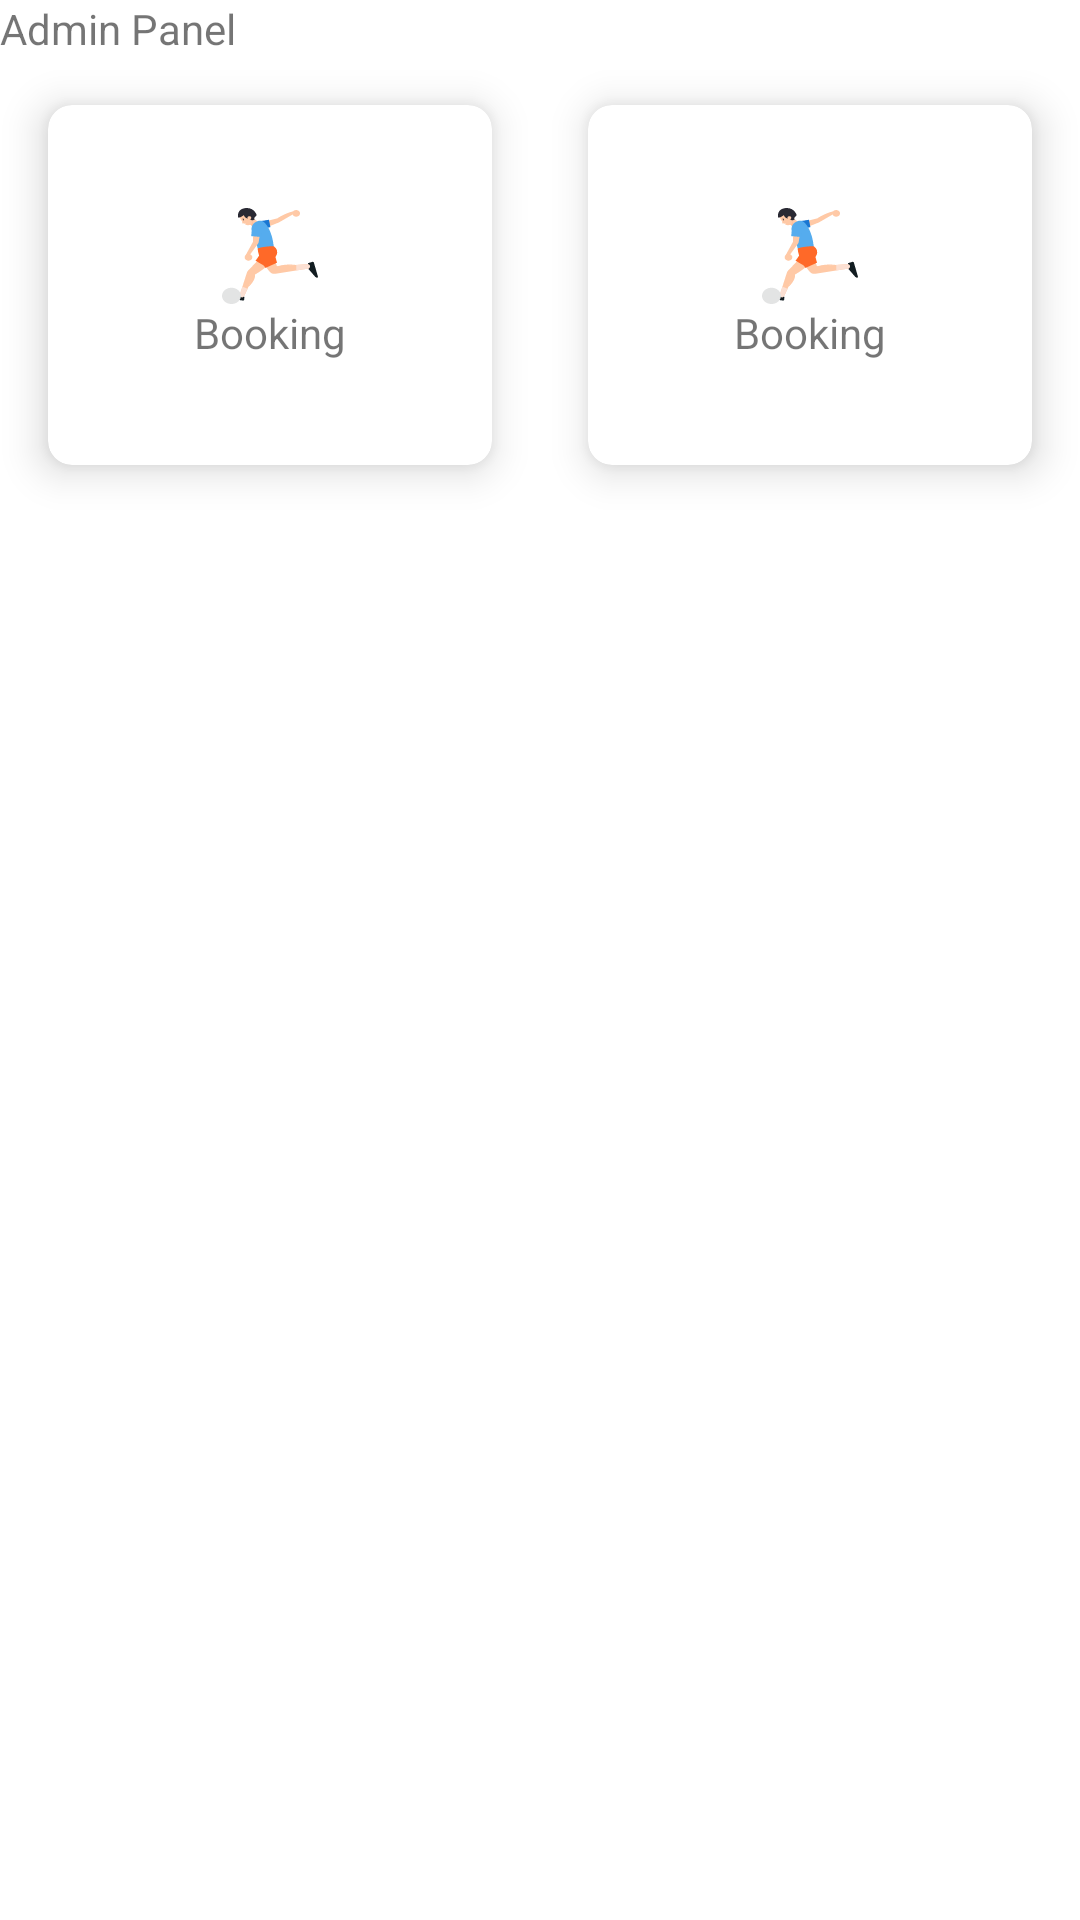

Screen size 1080px x 1920px. Icon name, then its center in pixels as [x,y]:
football: [270,256], [810,256]
